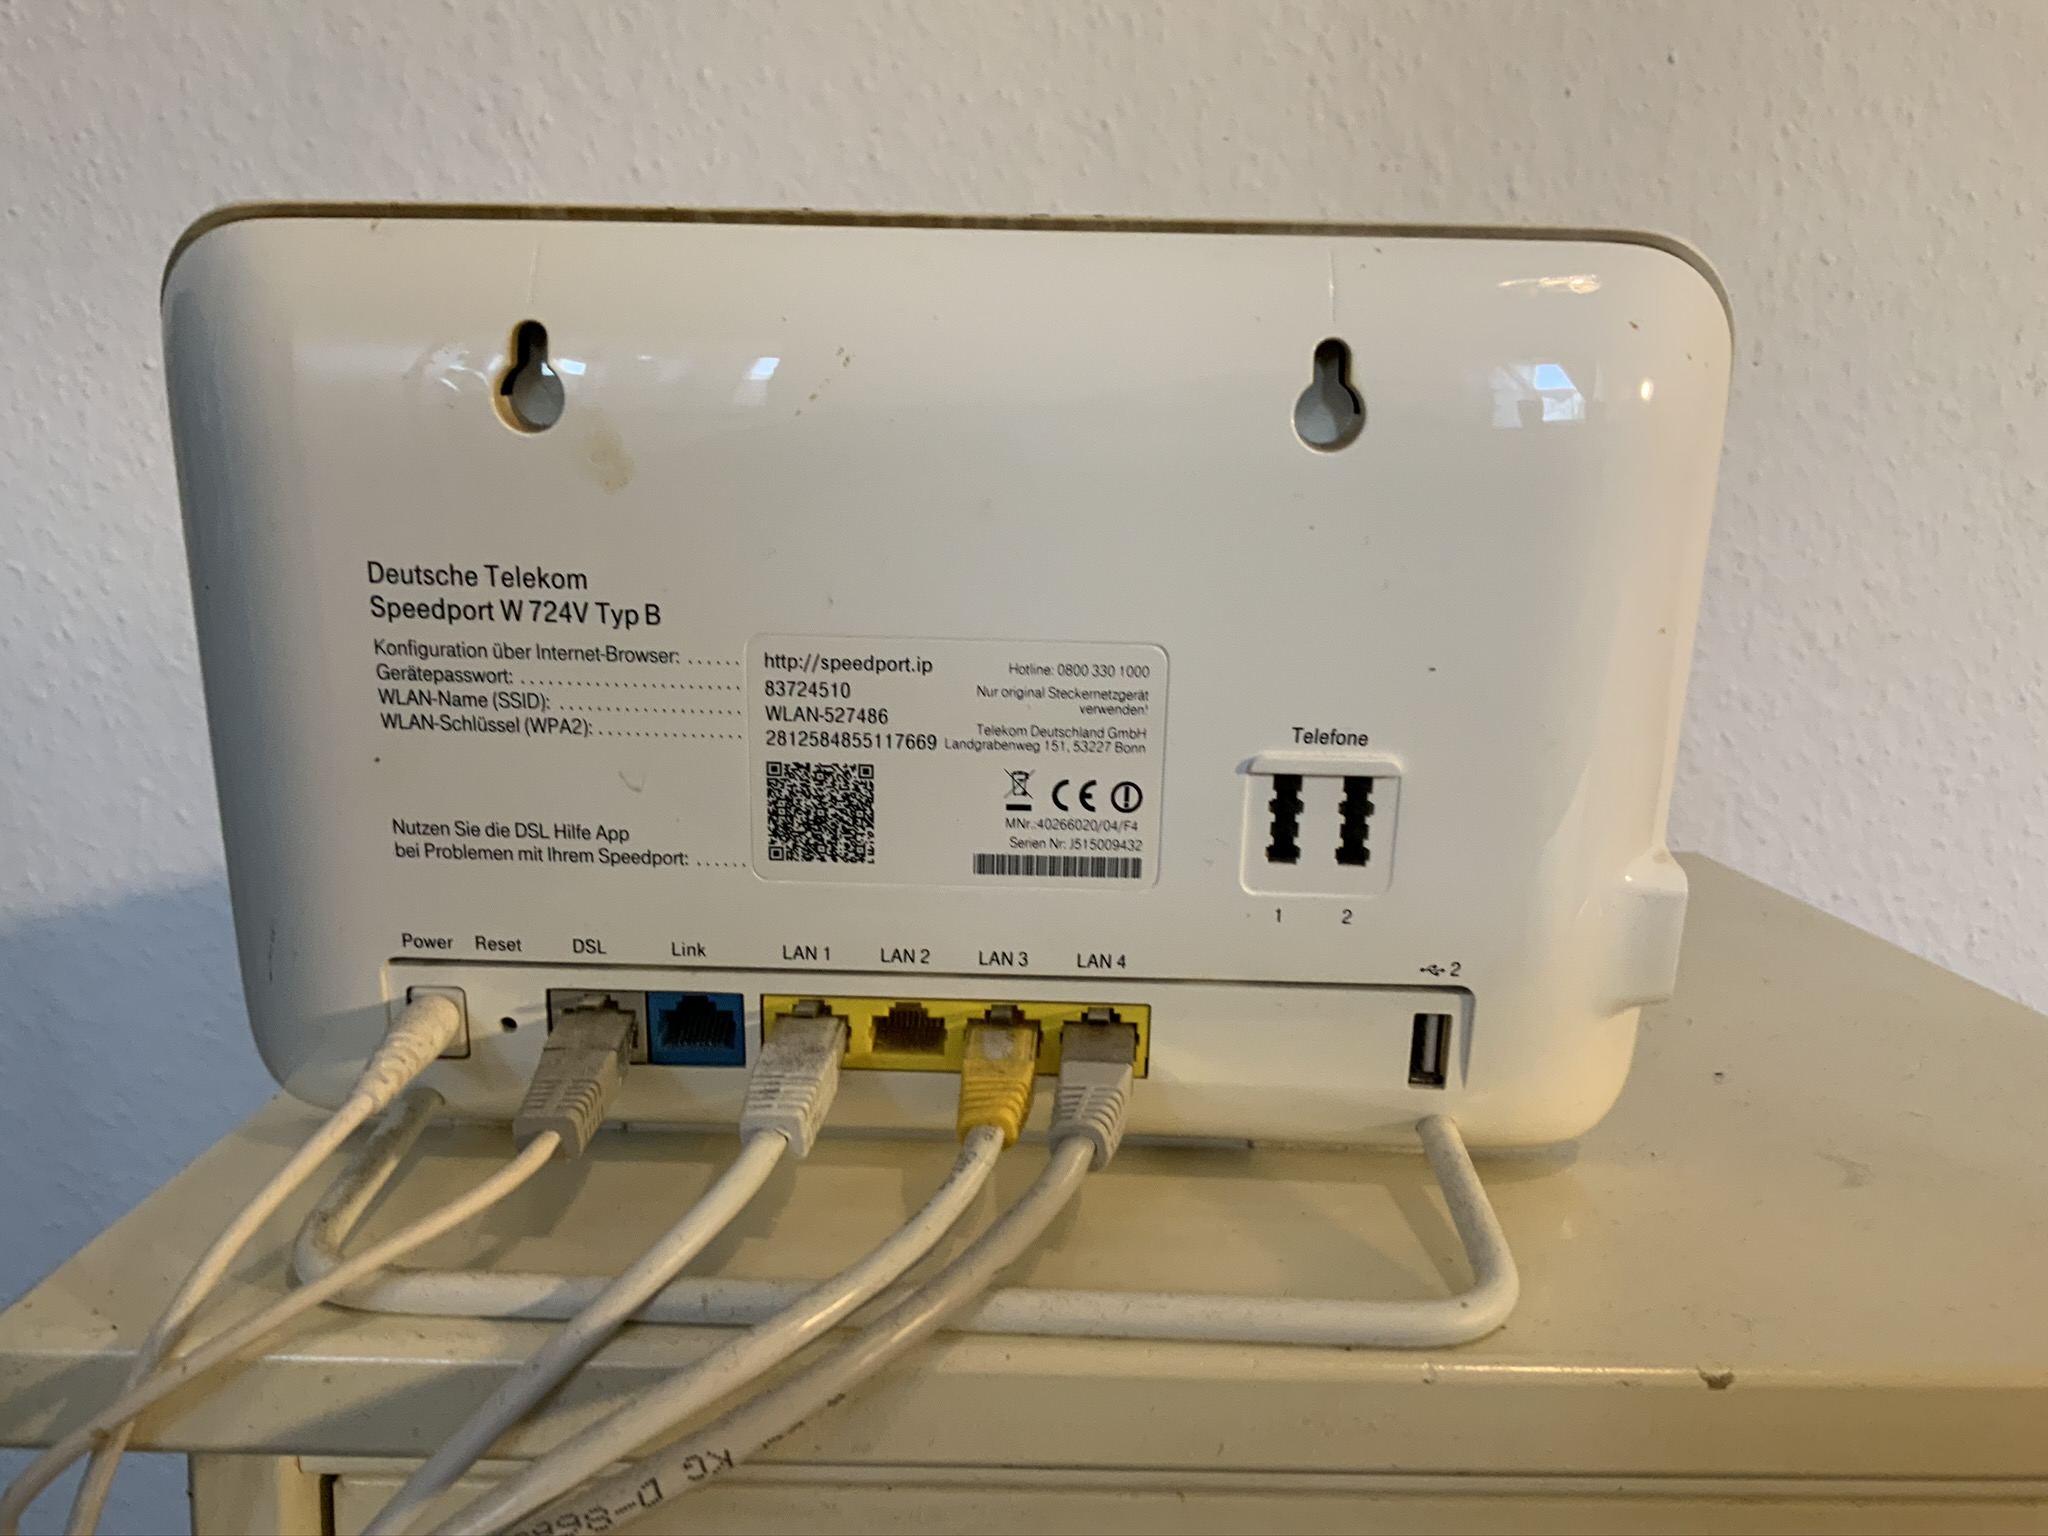router: (150, 198, 1743, 1183)
